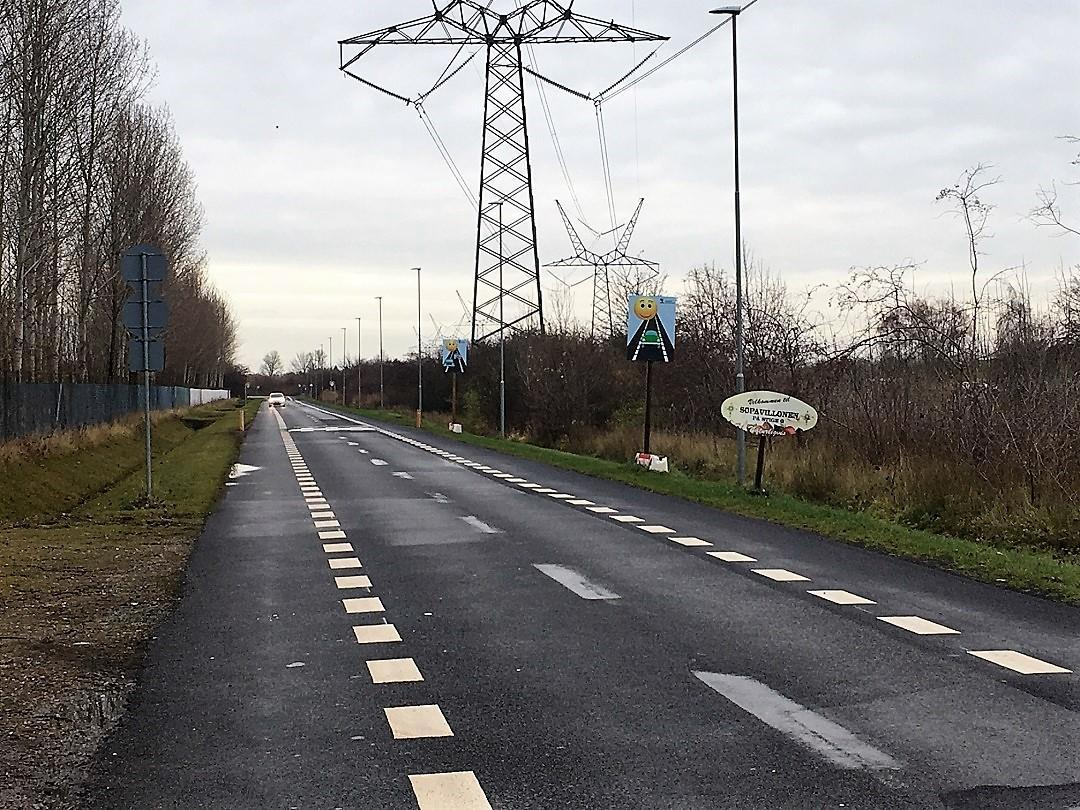indicator: (716, 392, 821, 444), (630, 289, 675, 364)
